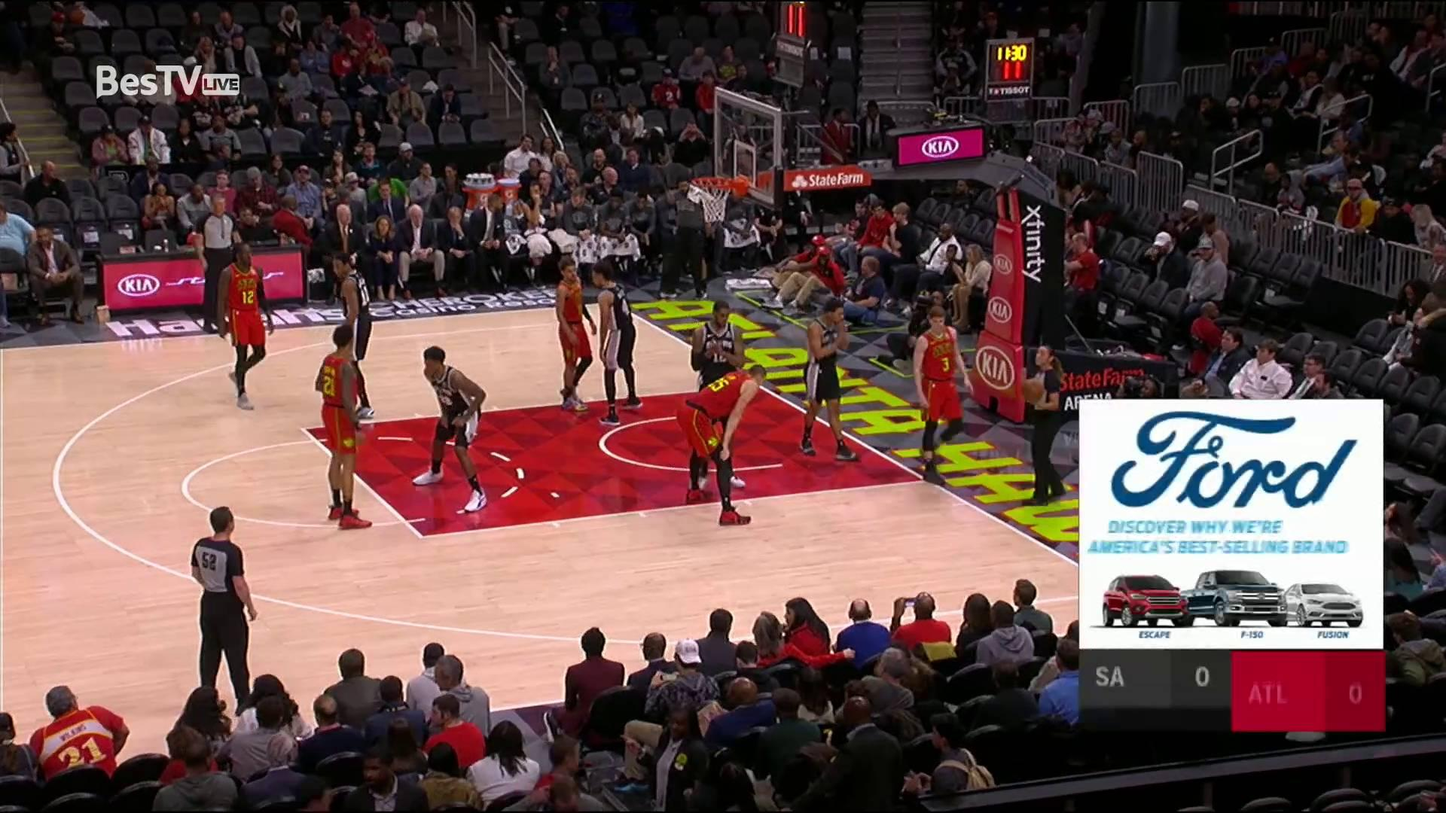basketball: (1019, 376, 1046, 405)
